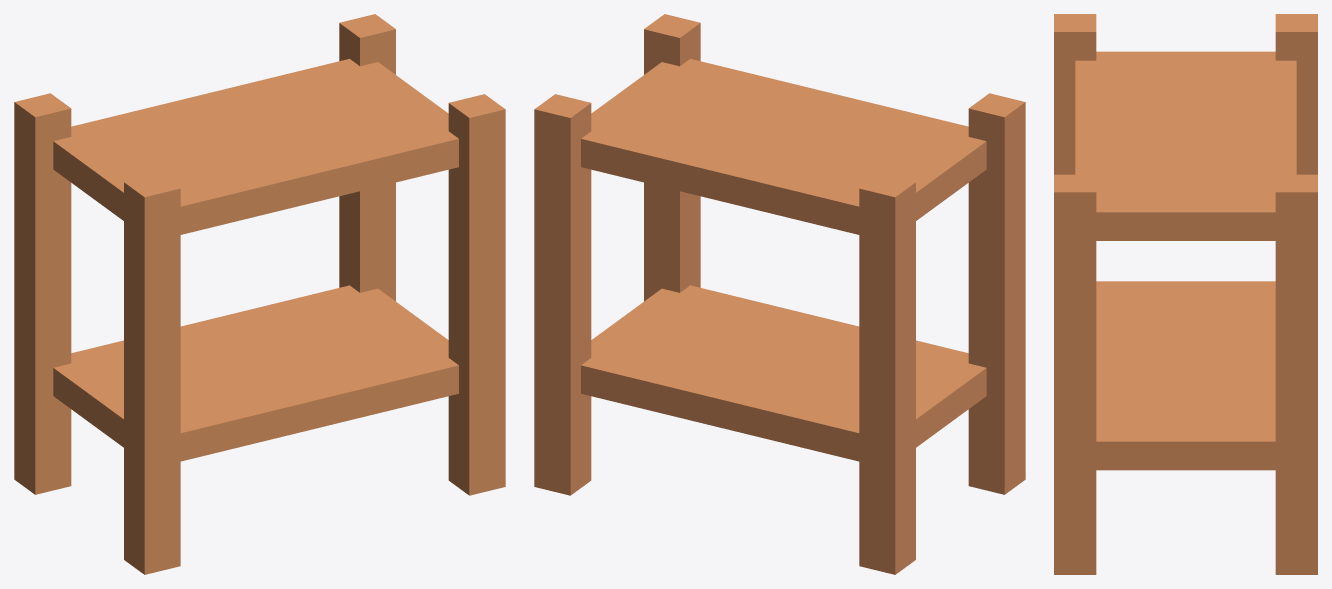
Rendered from bookcaseopenlow.gltf.
The picture shows the model from 3 angles, left to right: view 1: azimuth 30°, elevation 25°; view 2: azimuth 150°, elevation 25°; view 3: azimuth 270°, elevation 25°; orthographic projection.
Parts seen in each view (by area): view 1: bookcaseopenlow; view 2: bookcaseopenlow; view 3: bookcaseopenlow.
Boxes of the visible parts, <box> form: bookcaseopenlow: <box>14,14,505,574</box>; bookcaseopenlow: <box>534,14,1025,574</box>; bookcaseopenlow: <box>1054,14,1317,574</box>.
Bounding box in the file's own units: 0.4 × 0.4 × 0.25.
1 material, 1 textured.
